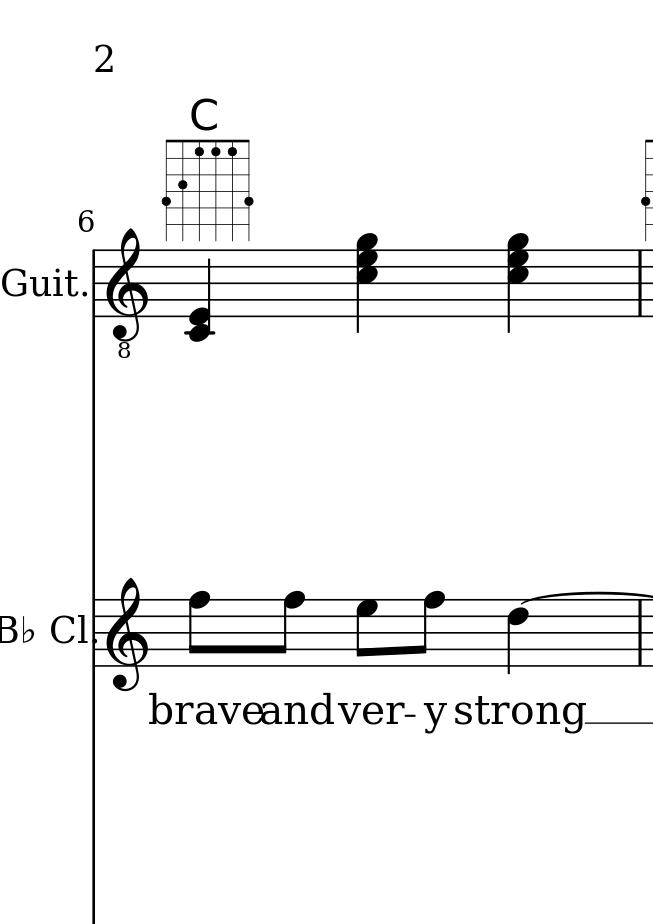2: (93, 42, 115, 76)
4_-2_0: (184, 249, 216, 341)
4_6: (506, 596, 528, 676)
4_th: (352, 229, 379, 334), (502, 229, 529, 332)
6: (77, 206, 96, 235)
8_7: (354, 597, 379, 668)
8_8: (411, 589, 445, 668), (271, 588, 304, 669), (186, 589, 210, 669)
Cl: (50, 612, 88, 646)
Fretboard: (160, 135, 256, 242)
Gclef: (103, 572, 151, 694)
Guit: (1, 263, 79, 300)
Lower_Gclef: (104, 228, 149, 359)
Single_barline: (633, 249, 648, 318), (633, 600, 648, 667), (87, 249, 101, 319), (88, 599, 102, 668)
